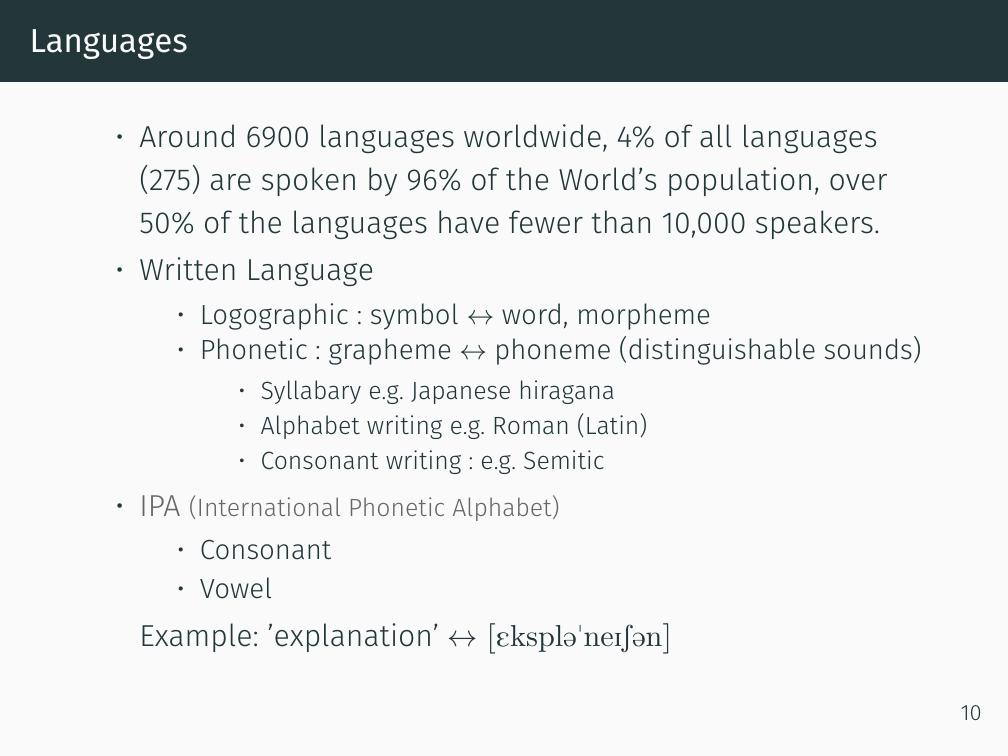Title: (25, 21, 198, 68)
